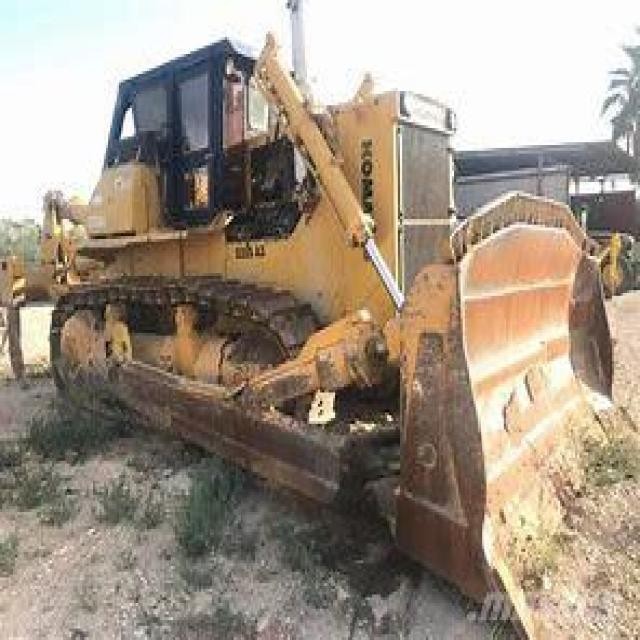Bulldozer: (34, 28, 625, 609)
